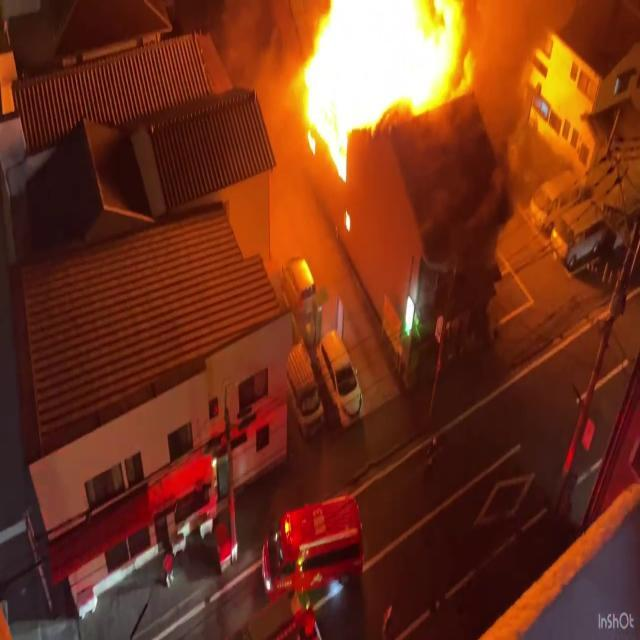Fire: (289, 0, 472, 160)
